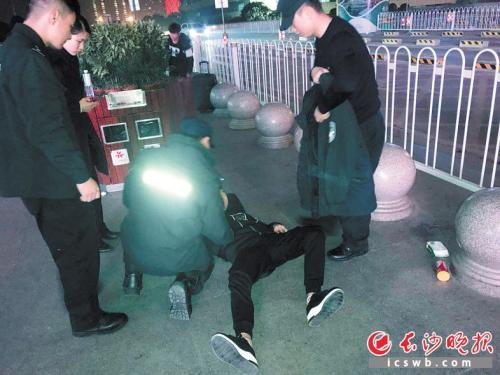fall: (192, 179, 355, 364)
